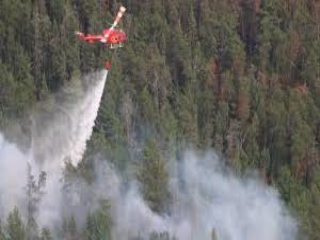smoke: (1, 141, 302, 234)
